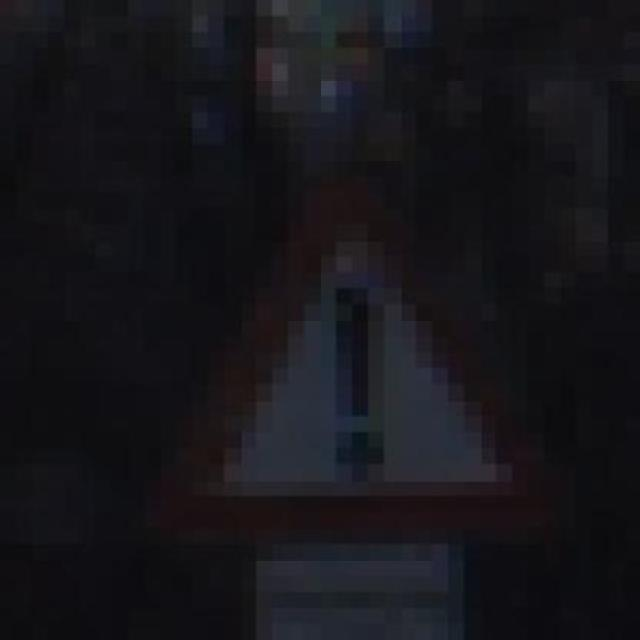Attention Please-: (144, 175, 576, 560)
